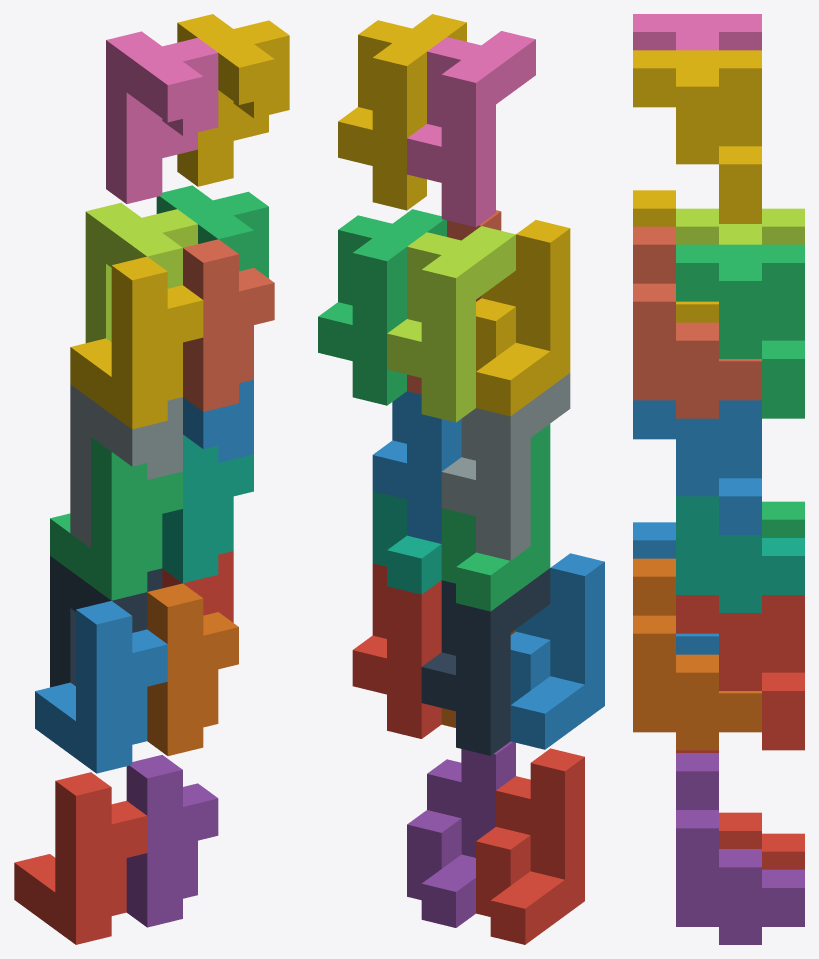
Rendered from tiling.obj.
3 renders of one model, left to right at view 1: azimuth 30°, elevation 25°; view 2: azimuth 150°, elevation 25°; view 3: azimuth 270°, elevation 25°, orthographic. The views are drawn at different scales.
Visible parts, largest first — view 1: copy_2_domain_4, copy_1_domain_4, copy_1_domain_1, copy_1_domain_2, copy_1_domain_3, copy_2_domain_8, copy_1_domain_6, copy_1_domain_5, copy_1_domain_8, copy_1_domain_7, copy_2_domain_3, copy_2_domain_2 (+4 smaller); view 2: copy_1_domain_1, copy_2_domain_3, copy_2_domain_4, copy_1_domain_4, copy_1_domain_2, copy_2_domain_8, copy_2_domain_7, copy_2_domain_1, copy_1_domain_5, copy_2_domain_2, copy_2_domain_5, copy_1_domain_3 (+3 smaller); view 3: copy_2_domain_7, copy_2_domain_8, copy_1_domain_5, copy_1_domain_6, copy_1_domain_8, copy_2_domain_5, copy_2_domain_6, copy_1_domain_7, copy_2_domain_4, copy_2_domain_3, copy_1_domain_1, copy_1_domain_2 (+2 smaller).
Part boxes in pixels (x1,y1,x2,y2): copy_2_domain_4: (106,31,218,203); copy_1_domain_4: (70,256,203,429); copy_1_domain_1: (14,772,147,944); copy_1_domain_2: (35,601,167,773); copy_1_domain_3: (50,437,182,600); copy_2_domain_8: (177,14,289,186); copy_1_domain_6: (147,583,238,755); copy_1_domain_5: (126,755,218,927); copy_1_domain_8: (183,239,274,411); copy_1_domain_7: (162,434,253,583); copy_2_domain_3: (85,203,197,342); copy_2_domain_2: (70,384,182,547); copy_1_domain_1: (476,748,584,944); copy_2_domain_3: (387,226,515,422); copy_2_domain_4: (407,31,535,227); copy_1_domain_4: (476,220,570,416); copy_1_domain_2: (510,553,604,749); copy_2_domain_8: (338,14,466,210); copy_2_domain_7: (318,209,446,405); copy_2_domain_1: (421,568,550,755); copy_1_domain_5: (407,741,515,927); copy_2_domain_2: (441,373,570,560); copy_2_domain_5: (352,563,441,738); copy_1_domain_3: (441,424,550,611); copy_2_domain_7: (676,244,804,418); copy_2_domain_8: (633,50,761,223); copy_1_domain_5: (676,753,804,944); copy_1_domain_6: (633,558,761,750); copy_1_domain_8: (633,226,761,418); copy_2_domain_5: (676,595,804,750); copy_2_domain_6: (633,400,761,535); copy_1_domain_7: (676,496,804,612); copy_2_domain_4: (633,14,761,50); copy_2_domain_3: (676,208,804,244); copy_1_domain_1: (676,750,804,869); copy_1_domain_2: (633,522,718,654).
Bounding box in the file's own units: 6 × 23 × 4.
